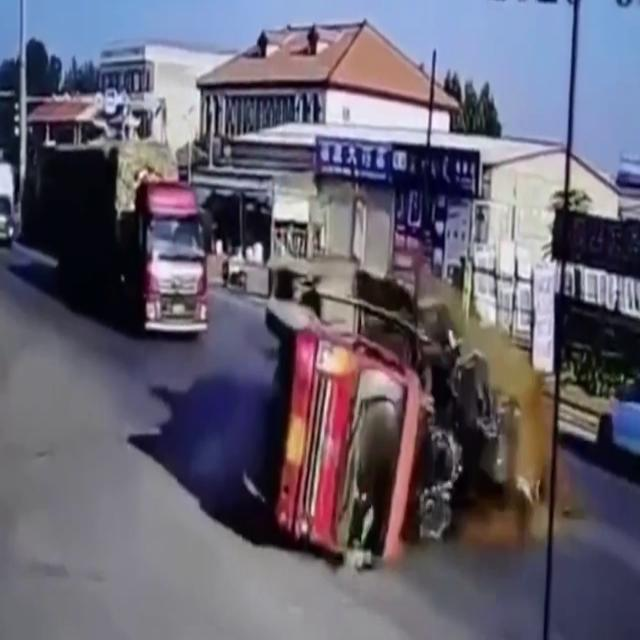single accident: (190, 230, 563, 570)
